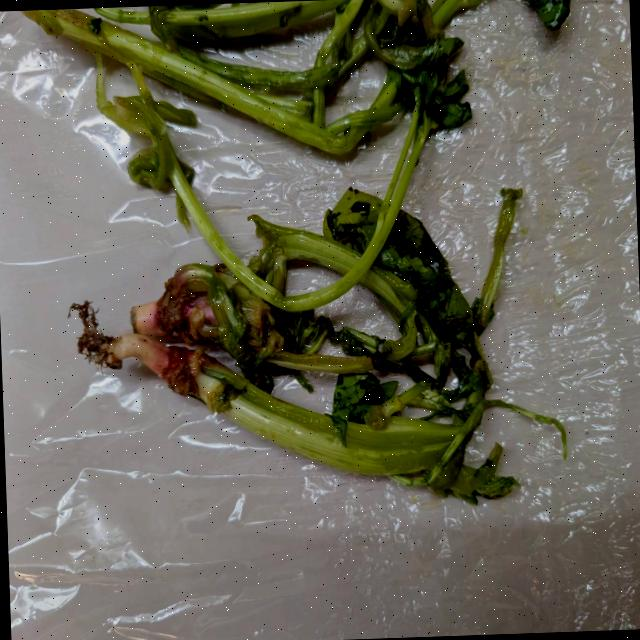rotten spinach: (25, 0, 611, 530), (38, 190, 598, 556), (14, 0, 606, 227), (76, 177, 446, 470)
